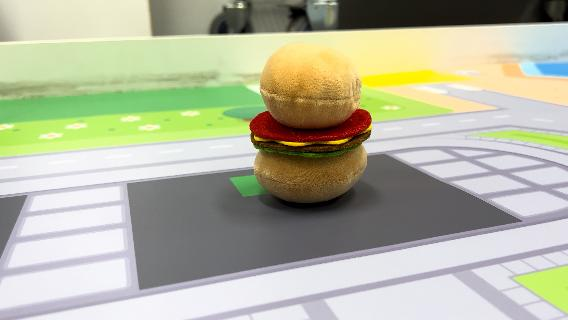burger: (246, 40, 376, 206)
